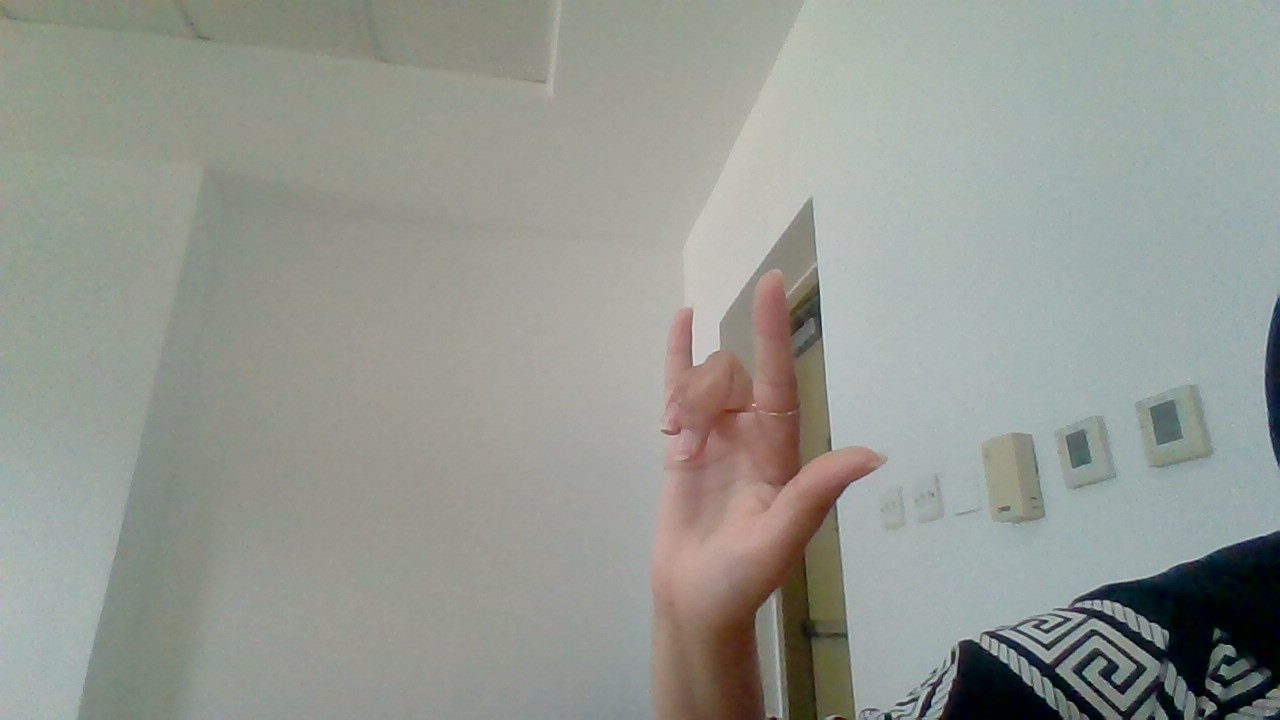love: (612, 265, 906, 653)
